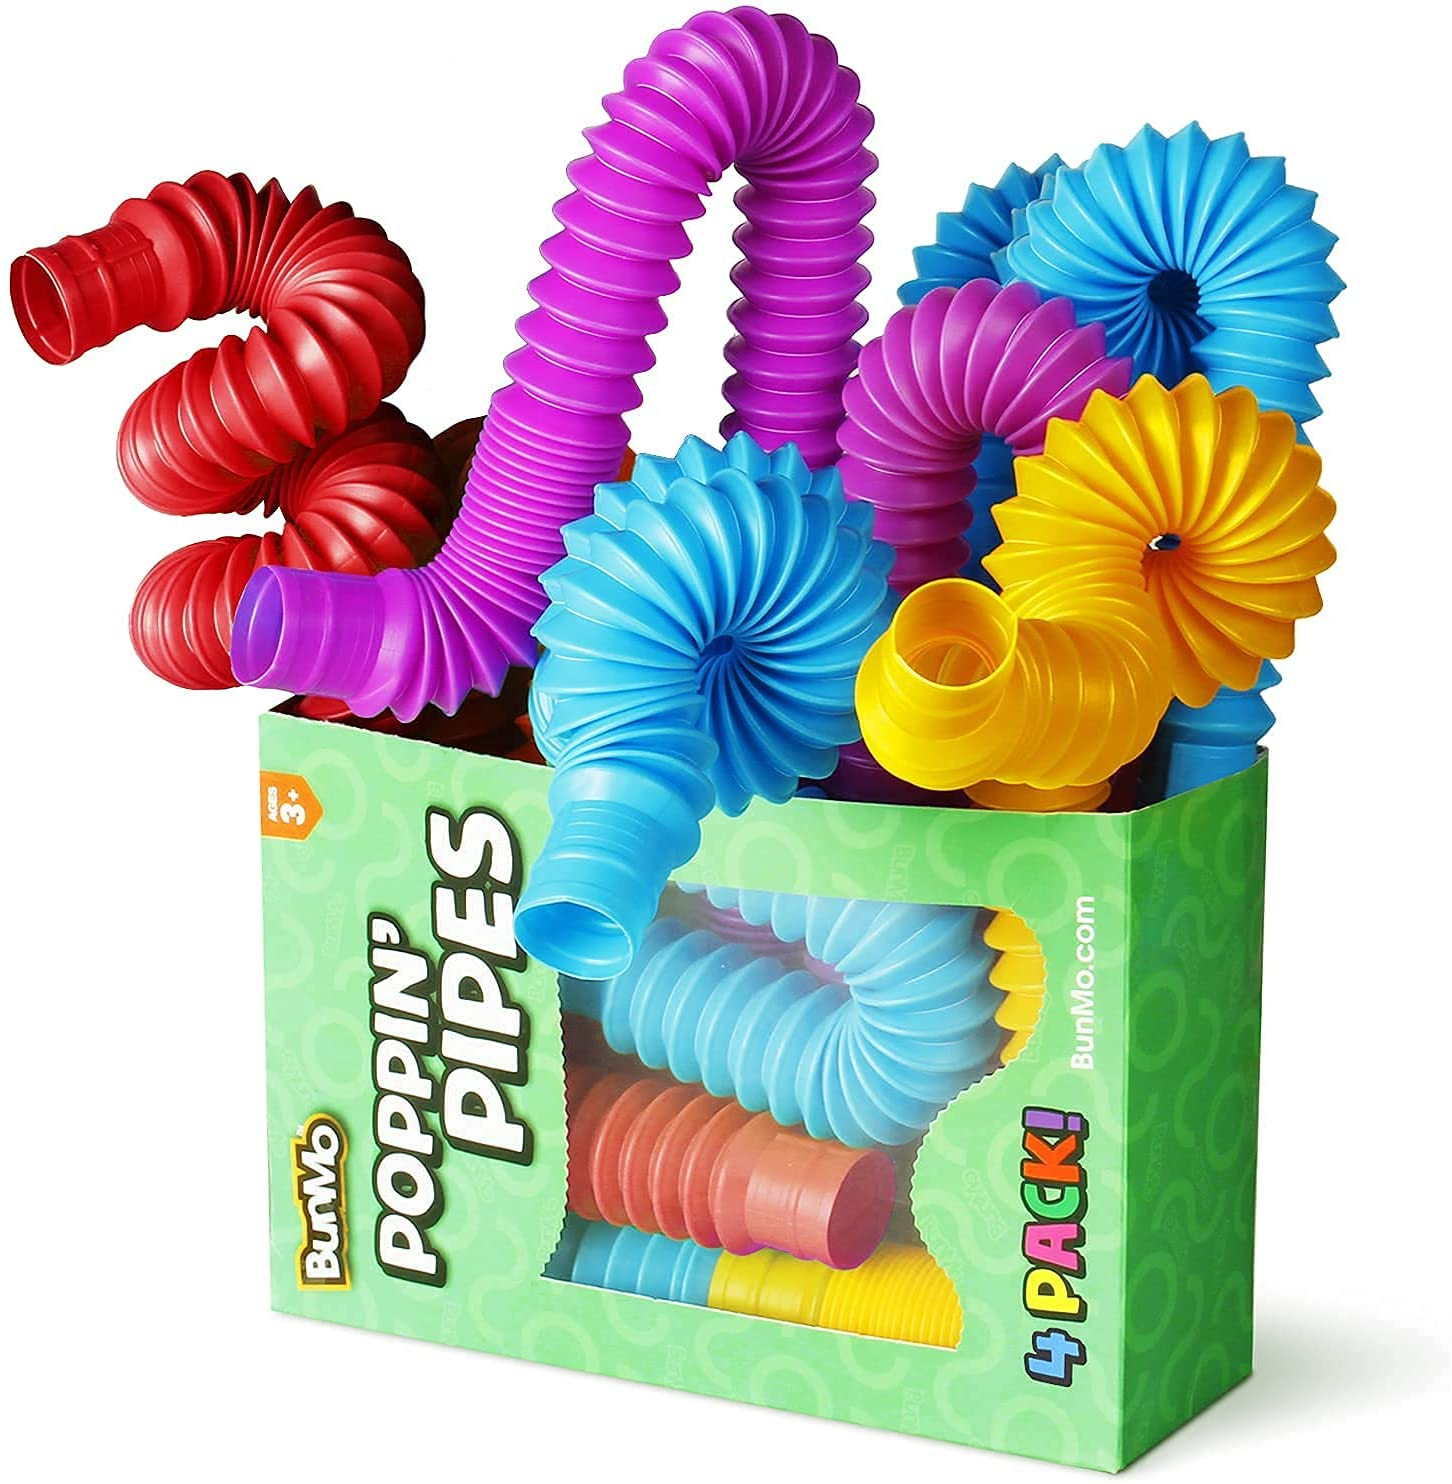toy: (1, 156, 473, 737)
